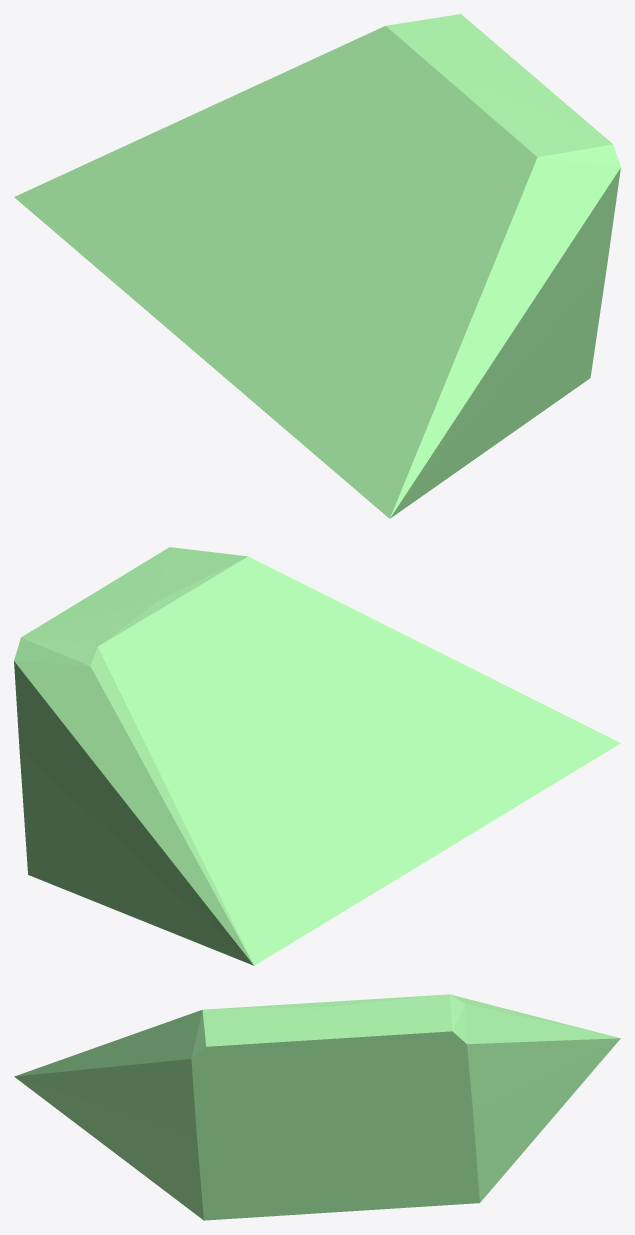
The model's file is UMIRobot_UMIRobot_link_5_convex_coll_10.dae.
The picture shows the model from 3 angles, top to bottom: view 1: azimuth 30°, elevation 25°; view 2: azimuth 150°, elevation 25°; view 3: azimuth 270°, elevation 25°; orthographic projection. The views are drawn at different scales.
Visible parts, largest first — view 1: node; view 2: node; view 3: node.
Part boxes in pixels (x1,y1,x2,y2): node: (14,14,620,518); node: (14,547,620,965); node: (14,994,620,1220).
Size of the model in its own units: 0.015 by 0.0106 by 0.0285.
